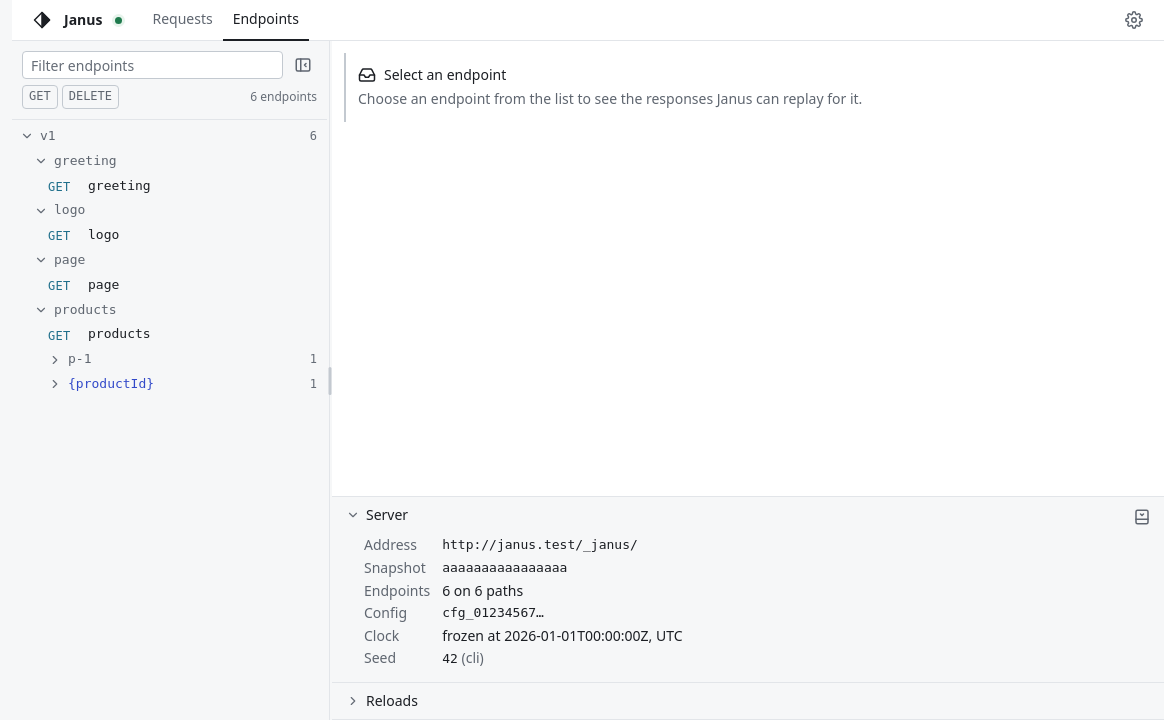
Test: fixture variations in the UI › shows a representation matrix, the path parameters and the accepted media types
Click the button with aria-label "/v1/products/{productId}, path parameter productId" at (111, 383), box [12,372,327,397]
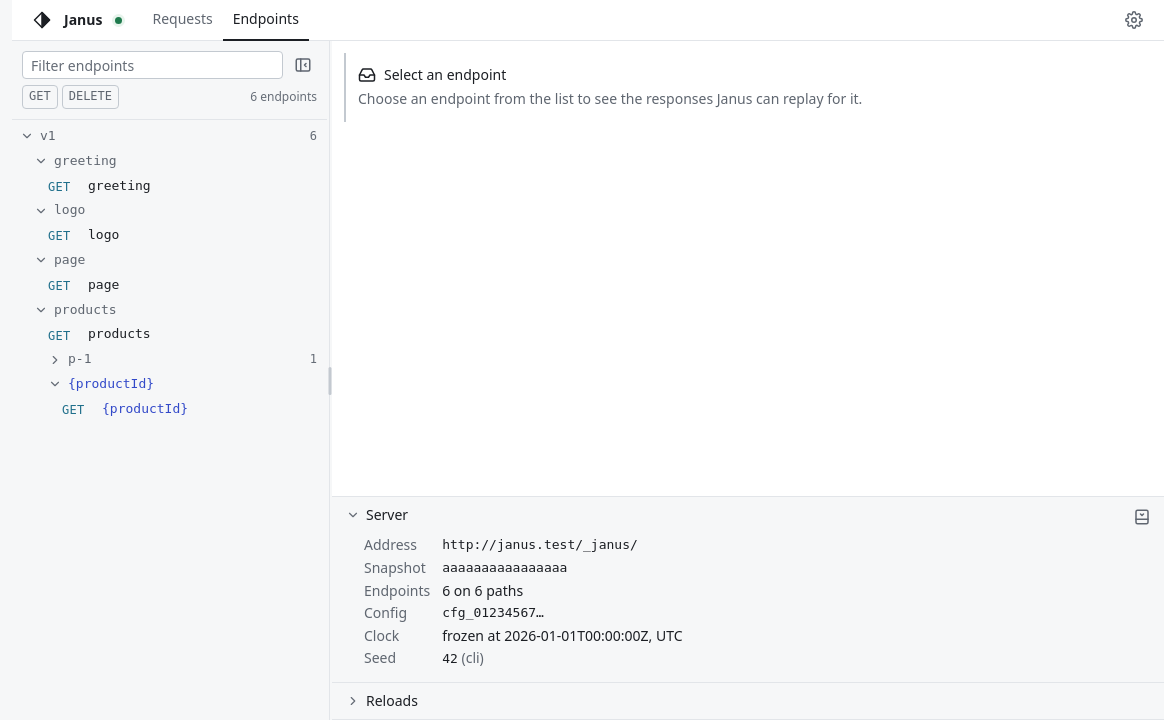
Click the link named "GET /v1/products/{productId}, path parameter productId, scenario default" at (125, 409), box [62,401,188,417]
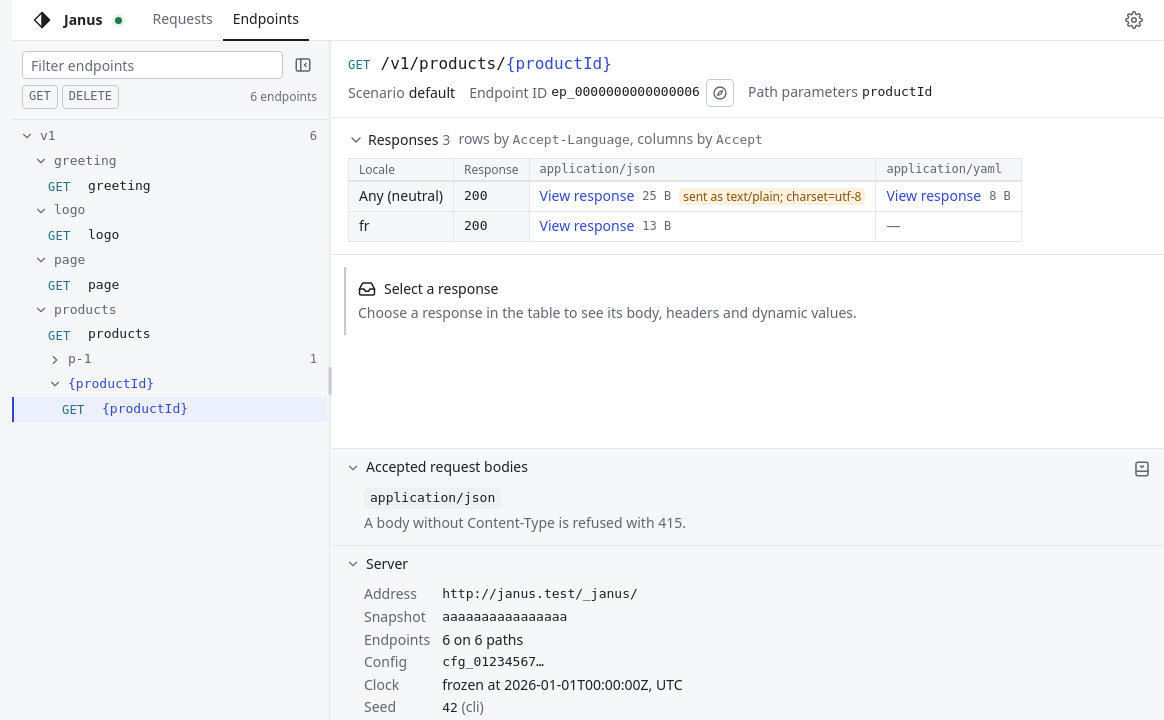
Check: the heading "GET /v1/products/{productId}" is shown, box [348,54,612,73]
Check: the text "productId" is shown, box [862,82,932,103]
Check: the list items read "application/json", in this order, box [364,488,501,508]
